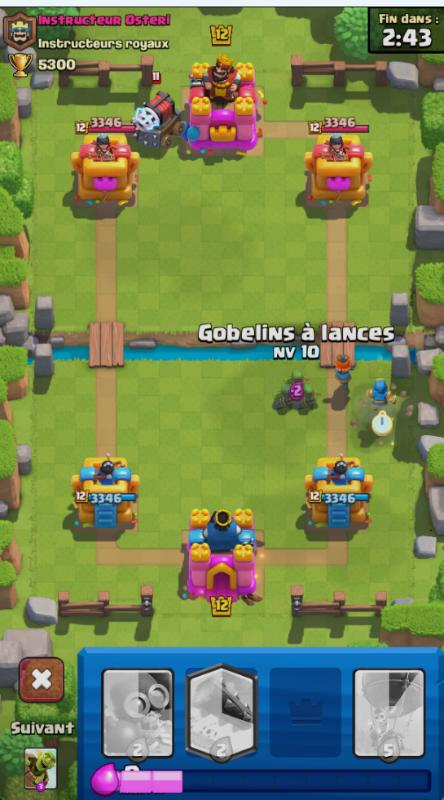gobelin_lances: (300, 384, 322, 413), (275, 383, 294, 412), (289, 370, 306, 383)
valkyrie: (322, 352, 362, 392)
zappy: (133, 82, 185, 149)
